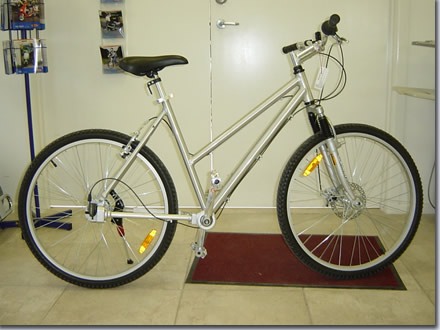bicycle: (4, 6, 429, 297)
